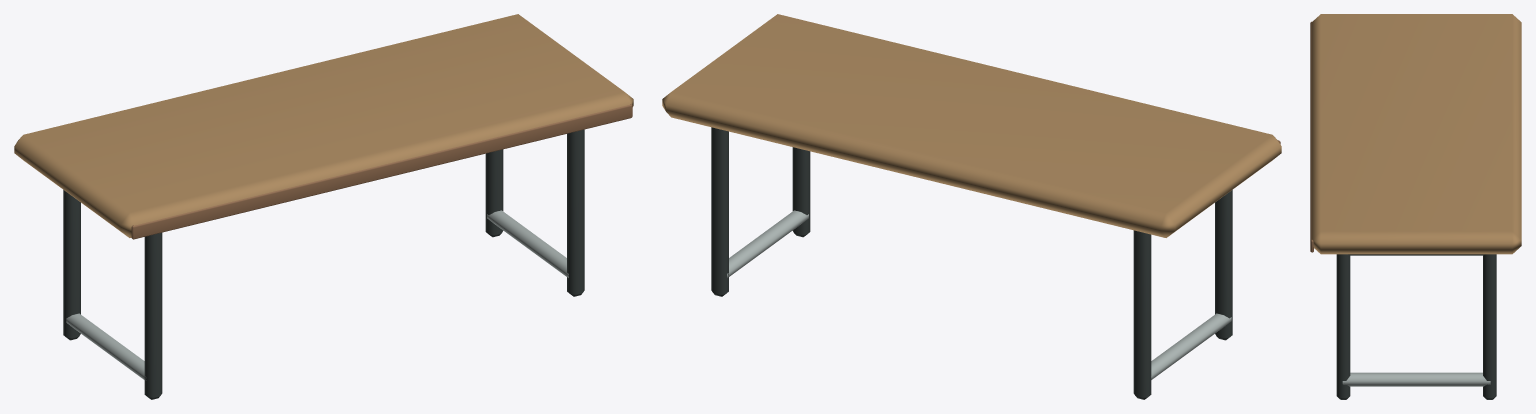
File: acabado-puesto.glb
3 views of the same model, side by side, from view 1: azimuth 30°, elevation 25°; view 2: azimuth 150°, elevation 25°; view 3: azimuth 270°, elevation 25° (orthographic). The views are drawn at different scales.
Visible parts, largest first — view 1: Roble aceitado, Grafito, Cedro, Aluminio satinado; view 2: Roble aceitado, Grafito, Aluminio satinado; view 3: Roble aceitado, Grafito, Aluminio satinado, Cedro.
Part boxes in pixels (bbox=[...]): Roble aceitado: bbox=[14, 14, 633, 237]; Grafito: bbox=[63, 129, 584, 399]; Cedro: bbox=[131, 104, 632, 239]; Aluminio satinado: bbox=[66, 210, 568, 380]; Roble aceitado: bbox=[662, 14, 1281, 237]; Grafito: bbox=[711, 127, 1232, 399]; Aluminio satinado: bbox=[727, 210, 1231, 379]; Roble aceitado: bbox=[1311, 14, 1521, 254]; Grafito: bbox=[1336, 254, 1496, 399]; Aluminio satinado: bbox=[1342, 372, 1490, 386]; Cedro: bbox=[1310, 21, 1313, 252].
Bounding box in the file's own units: 3.35 × 1.27 × 1.33.
